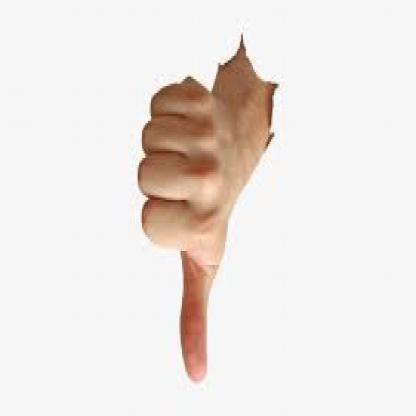thumb_down: (134, 68, 235, 385)
